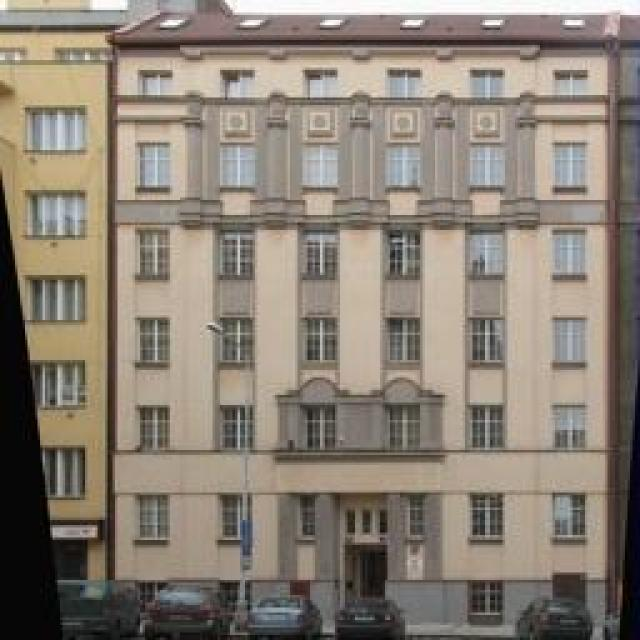building: (120, 5, 628, 640)
